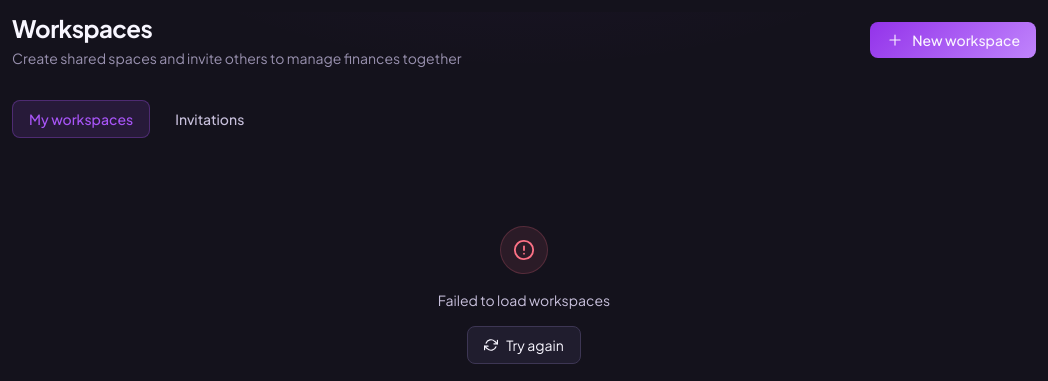
Test: Workspaces - error paths › shows a retryable error state when the workspace list fails to load
Check: the text "Failed to load workspaces" is shown, box [438, 290, 610, 310]
Click the button "Try again".
click(524, 345)  # box [467, 326, 581, 364]
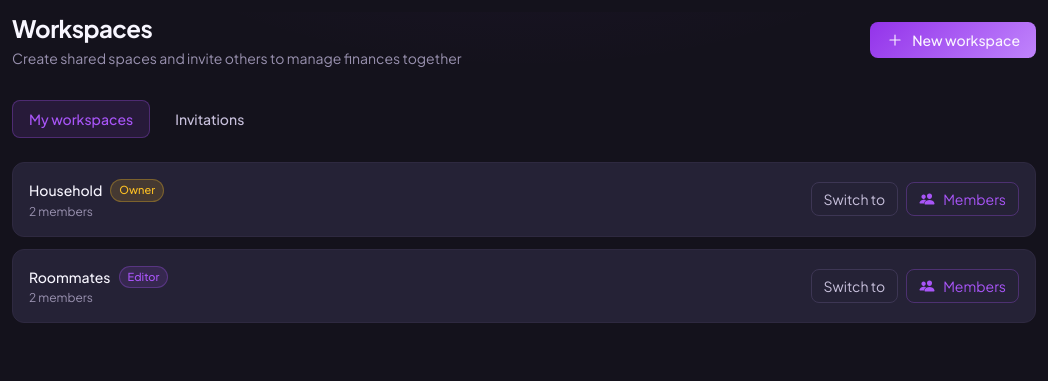
Check: the text "Household" is shown, box [29, 180, 102, 200]
